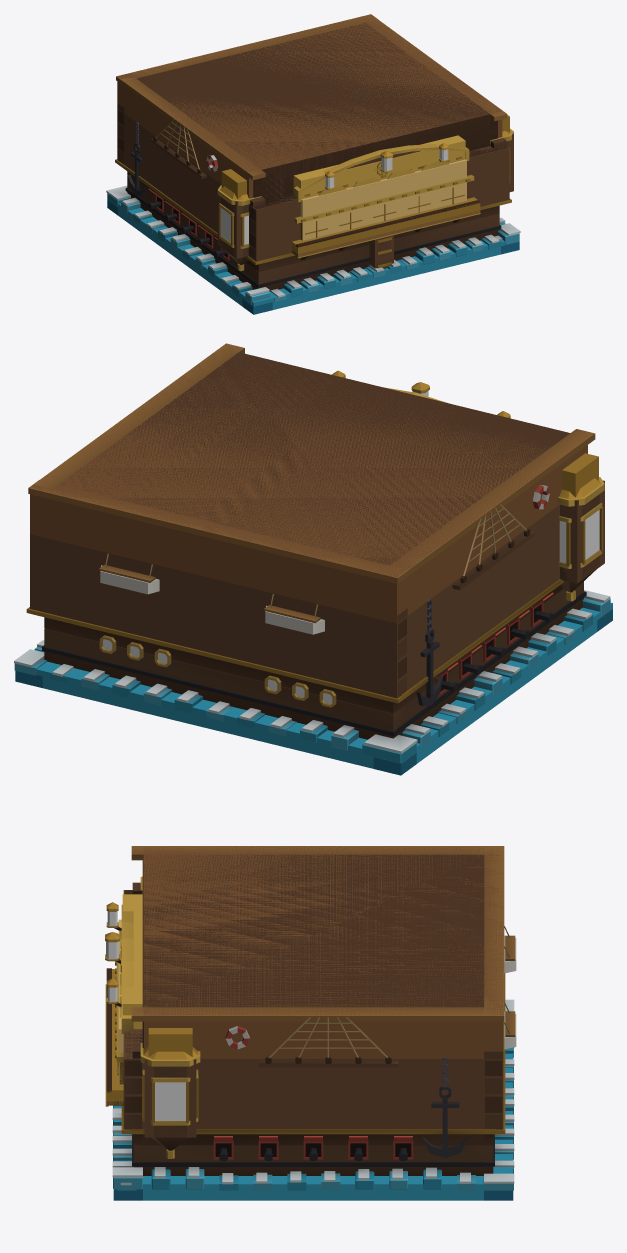
The model's file is WorldInBottleFloor.fbx.
3 renders of one model, top to bottom at view 1: azimuth 30°, elevation 25°; view 2: azimuth 150°, elevation 25°; view 3: azimuth 270°, elevation 25°, orthographic. The views are drawn at different scales.
Parts seen in each view (by area): view 1: WB_S_All, WB_F_Smooth, WB_F_Rings, WB_F_Props, WB_F_Glass, WB_F_Quiet; view 2: WB_S_All, WB_F_Smooth, WB_F_Rings, WB_F_Props, WB_F_Glass, WB_F_Quiet; view 3: WB_S_All, WB_F_Smooth, WB_F_Rings, WB_F_Props, WB_F_Glass, WB_F_Quiet.
Boxes of the visible parts, x1,y1,x2,y2 form: WB_S_All: (108,15,519,309); WB_F_Smooth: (106,14,520,304); WB_F_Rings: (107,110,519,304); WB_F_Props: (153,128,513,268); WB_F_Glass: (221,149,448,244); WB_F_Quiet: (107,200,519,314); WB_S_All: (15,349,612,775); WB_F_Smooth: (14,343,610,763); WB_F_Rings: (44,387,610,763); WB_F_Props: (100,370,604,674); WB_F_Glass: (103,391,599,704); WB_F_Quiet: (15,609,612,775); WB_S_All: (106,846,513,1200); WB_F_Smooth: (105,846,515,1190); WB_F_Rings: (113,882,513,1189); WB_F_Props: (105,876,516,1150); WB_F_Glass: (106,911,185,1120); WB_F_Quiet: (113,1189,512,1200).
Size of the model in its own units: 60 by 20 by 60.
